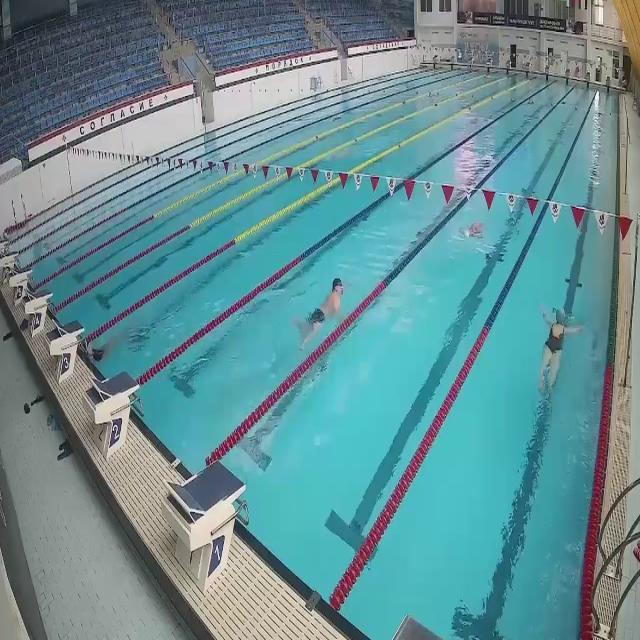Swimming: (536, 302, 593, 391), (296, 278, 350, 346), (459, 217, 488, 239)
